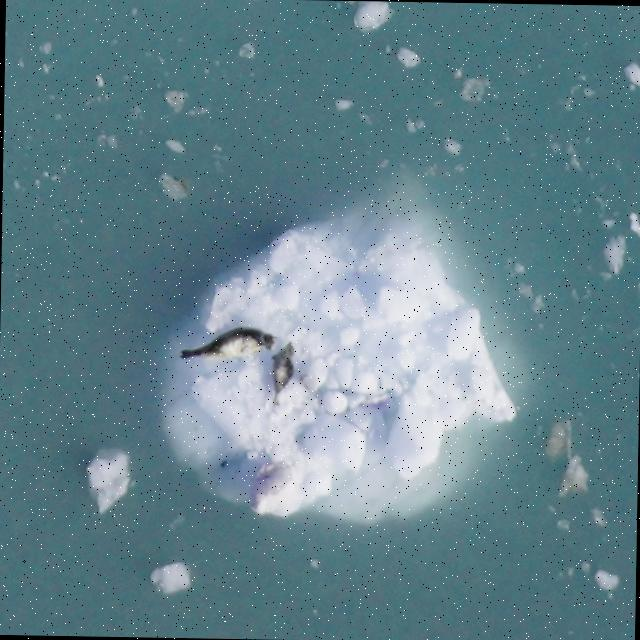seal: (174, 320, 279, 365), (266, 336, 299, 411)
